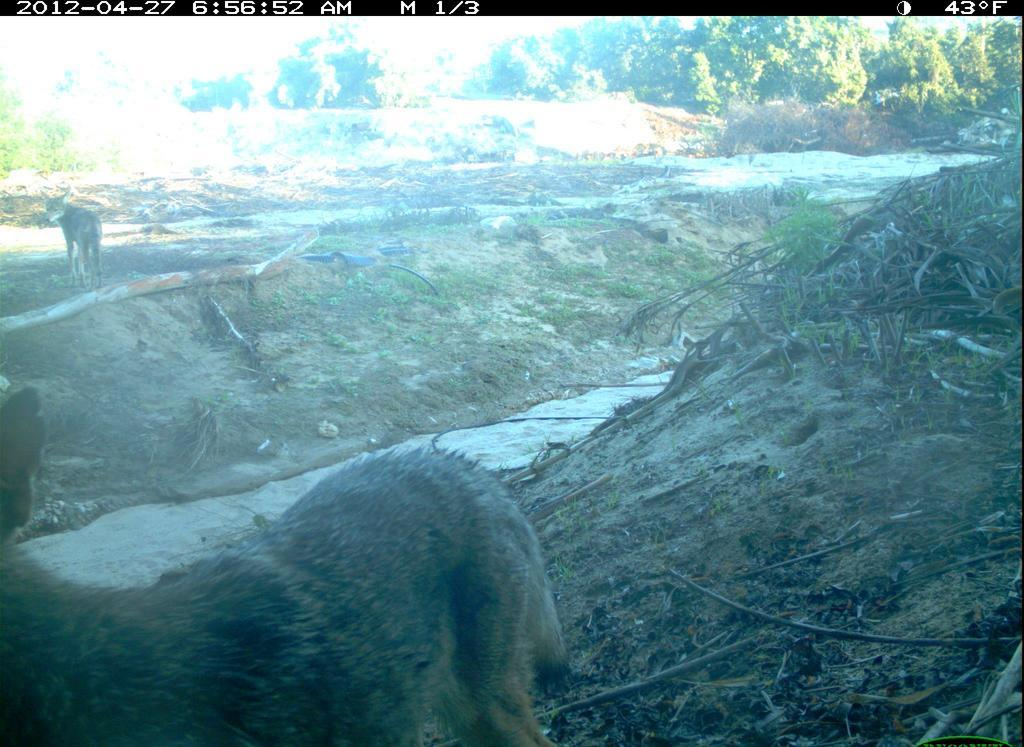coyote: (2, 385, 577, 747), (35, 187, 111, 297)
